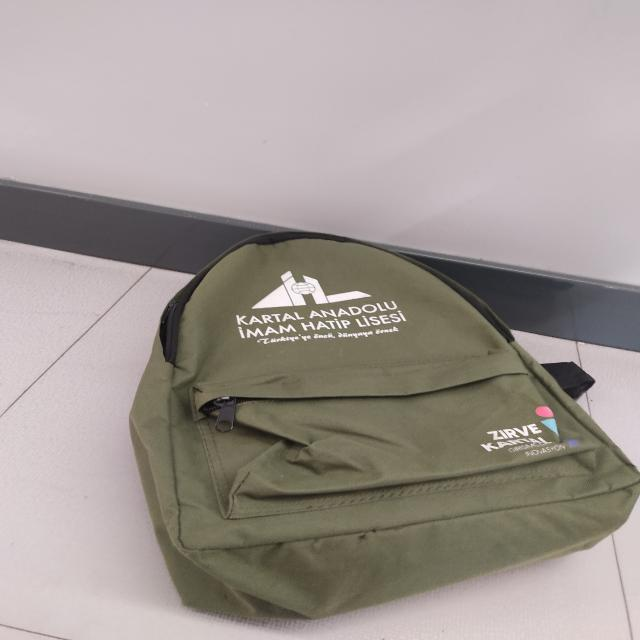bag: (146, 228, 616, 598)
